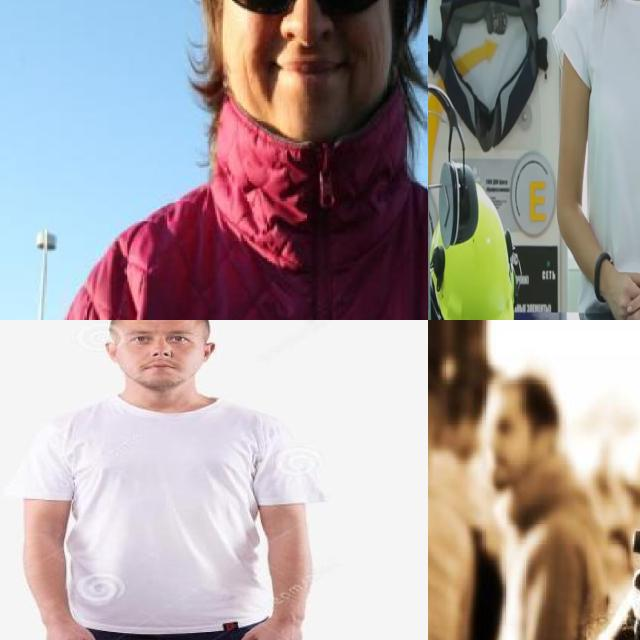No_Ear-Protection: (198, 333, 218, 370), (100, 333, 118, 365)
No_Glasses: (124, 326, 194, 351)
face_nomask: (217, 0, 392, 103), (119, 346, 201, 390)
glasses: (218, 0, 396, 27)
hand_noglove: (224, 597, 311, 640), (25, 612, 107, 640)
person: (47, 0, 428, 320), (8, 320, 326, 640), (477, 381, 601, 640), (552, 0, 640, 316), (428, 363, 469, 640)
